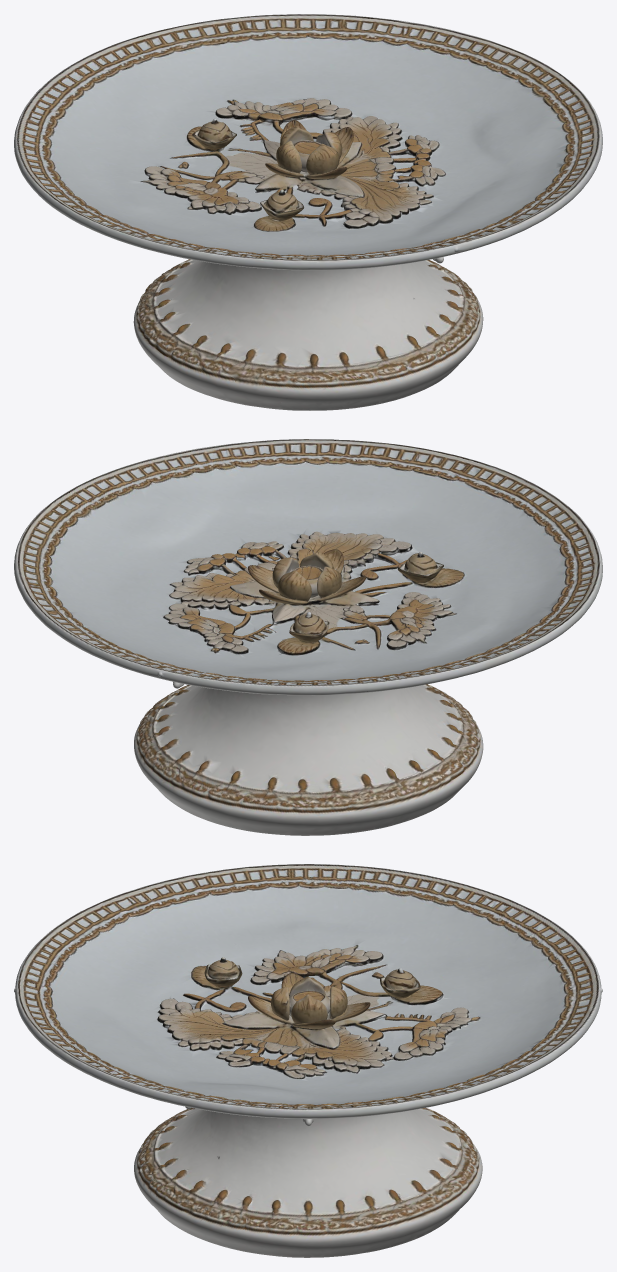
File: porcelain pedestal 3d model.glb
3 views of the same model, one above another, from view 1: azimuth 30°, elevation 25°; view 2: azimuth 150°, elevation 25°; view 3: azimuth 270°, elevation 25° (orthographic).
Parts seen in each view (by area): view 1: tripo_node_bb8a0f45-73f7-4db1-bec7-5cd54b5da589; view 2: tripo_node_bb8a0f45-73f7-4db1-bec7-5cd54b5da589; view 3: tripo_node_bb8a0f45-73f7-4db1-bec7-5cd54b5da589.
Boxes of the visible parts, left/top/right/bottom form: tripo_node_bb8a0f45-73f7-4db1-bec7-5cd54b5da589: left=14, top=14, right=602, bottom=410; tripo_node_bb8a0f45-73f7-4db1-bec7-5cd54b5da589: left=14, top=439, right=602, bottom=835; tripo_node_bb8a0f45-73f7-4db1-bec7-5cd54b5da589: left=14, top=864, right=602, bottom=1257.
Bounding box in the file's own units: 0.9947 × 0.3869 × 0.9997.
Materials: 1 (1 with a texture image).
